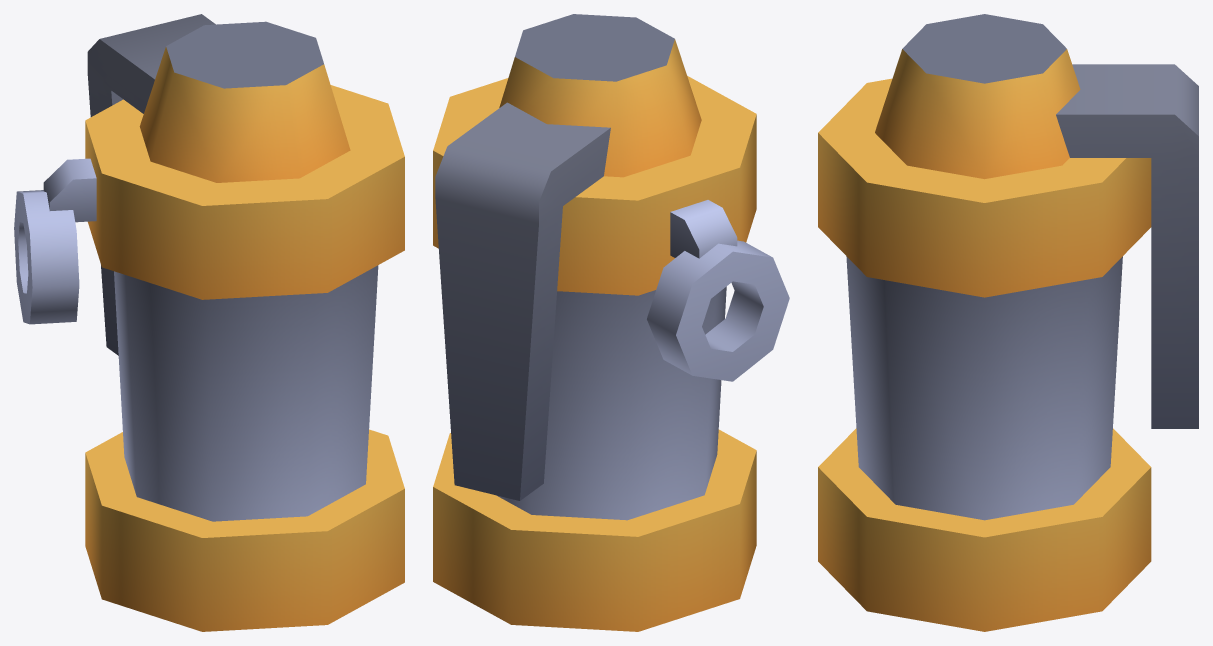
File: grenade.glb
3 views of the same model, side by side, from view 1: azimuth 30°, elevation 25°; view 2: azimuth 150°, elevation 25°; view 3: azimuth 270°, elevation 25° (orthographic).
Parts seen in each view (by area): view 1: grenade-a; view 2: grenade-a; view 3: grenade-a.
Boxes of the visible parts, x1,y1,x2,y2 form: grenade-a: (14, 14, 404, 631); grenade-a: (433, 14, 789, 631); grenade-a: (818, 14, 1198, 631).
Size of the model in its own units: 0.1689 by 0.2377 by 0.1599.
1 material, 1 textured.
